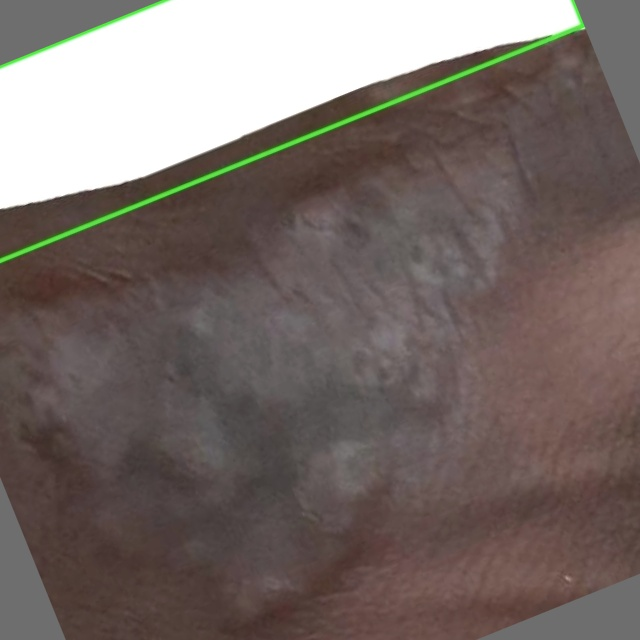Seborrheic Dermatitis: (0, 0, 584, 262)
